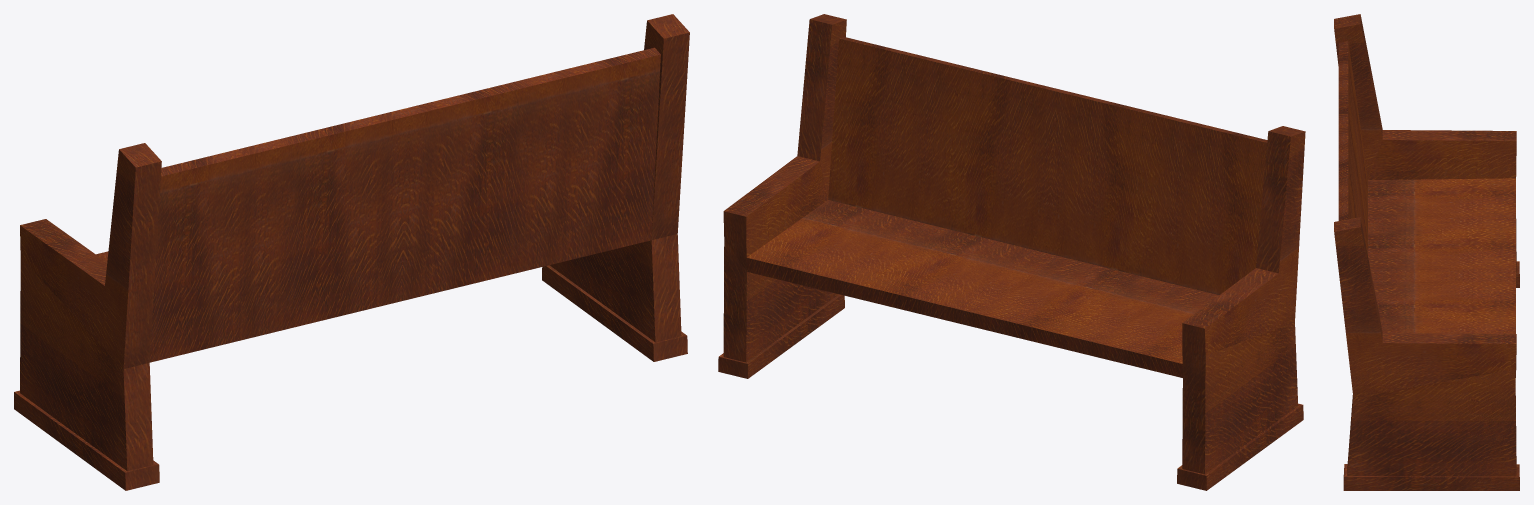
Rendered from Bench_Short.fbx.
3 views of the same model, side by side, from view 1: azimuth 30°, elevation 25°; view 2: azimuth 150°, elevation 25°; view 3: azimuth 270°, elevation 25° (orthographic). The views are drawn at different scales.
Parts seen in each view (by area): view 1: Plane; view 2: Plane; view 3: Plane.
Part boxes in pixels (x1,y1,x2,y2): Plane: (14, 14, 689, 490); Plane: (718, 14, 1305, 490); Plane: (1334, 14, 1519, 490).
Bounding box in the file's own units: 529 × 299 × 192.
